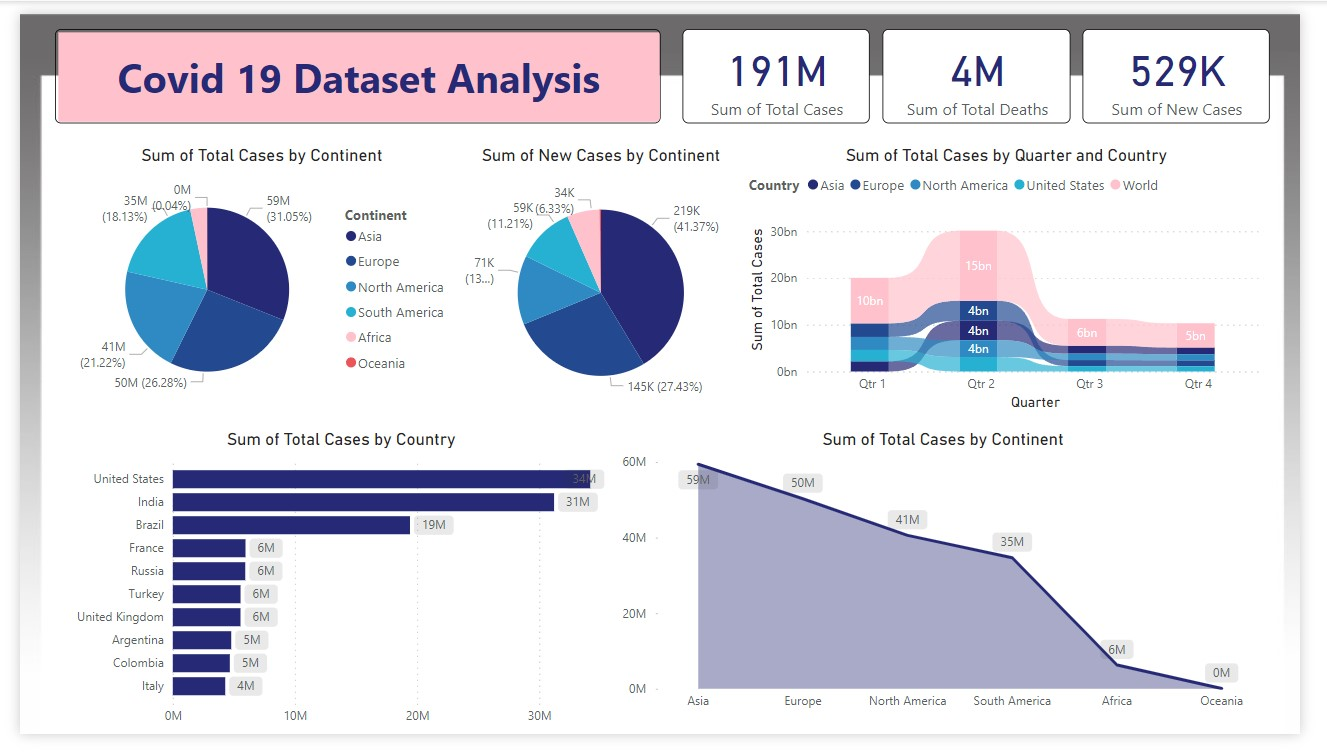

Layout of this report page (visuals, bound fields, positions):
{"tool":"powerbi","page":{"name":"Report","canvas":[1280,720],"ordinal":2},"visuals":[{"type":"card","fields":{"Values":["Sum(Covid Fainal.Total Cases)"]},"box":[663.1,15.5,186.9,94],"z":0},{"type":"card","fields":{"Values":["Sum(Covid Fainal.Total Deaths)"]},"box":[863.1,15.5,188.1,94],"z":1000},{"type":"card","fields":{"Values":["Sum(Covid Fainal.New Cases)"]},"box":[1061.9,15.5,186.9,94],"z":2000},{"type":"shape","box":[34.5,15.5,606,94],"z":3000},{"type":"textbox","box":[151.2,171.4,478.6,98.8],"z":4000},{"type":"pieChart","fields":{"Category":["Covid Fainal.Continent"],"Y":["Sum(Covid Fainal.Total Cases)"]},"box":[45,131.2,393.8,270],"z":5000},{"type":"pieChart","fields":{"Category":["Covid Fainal.Continent"],"Y":["Sum(Covid Fainal.New Cases)"]},"box":[439.3,131,284.5,276.2],"z":6000},{"type":"areaChart","fields":{"Category":["Covid Fainal.Continent"],"Y2":["Sum(Covid Fainal.Total Cases)"]},"box":[597.5,415,651.2,290],"z":7000},{"type":"barChart","fields":{"Category":["Covid Fainal.Country"],"Y":["Sum(Covid Fainal.Total Cases)"]},"box":[45,415,552.5,305],"z":8000},{"type":"ribbonChart","fields":{"Category":["Trend of Daily Cases.Date.Variation.Date Hierarchy.Quarter","Trend of Daily Cases.Date.Variation.Date Hierarchy.Month","Trend of Daily Cases.Date.Variation.Date Hierarchy.Day"],"Y":["Sum(Trend of Daily Cases.Total Cases)"],"Series":["Trend of Daily Cases.Country"]},"box":[723.8,131.2,525,270],"z":9000}]}

Visuals, with their boxes in screenshot pixels (x1, y1, x2, y2), scaled from the page's 1280x720 canvas onto the 1327x756 screenshot:
card - Sum(Covid Fainal.Total Cases): locate(687, 16, 881, 115)
card - Sum(Covid Fainal.Total Deaths): locate(895, 16, 1090, 115)
card - Sum(Covid Fainal.New Cases): locate(1101, 16, 1295, 115)
shape: locate(36, 16, 664, 115)
textbox: locate(157, 180, 653, 284)
pieChart - Covid Fainal.Continent x Sum(Covid Fainal.Total Cases): locate(47, 138, 455, 421)
pieChart - Covid Fainal.Continent x Sum(Covid Fainal.New Cases): locate(455, 138, 750, 428)
areaChart - Covid Fainal.Continent x Sum(Covid Fainal.Total Cases): locate(619, 436, 1295, 740)
barChart - Covid Fainal.Country x Sum(Covid Fainal.Total Cases): locate(47, 436, 619, 755)
ribbonChart - Trend of Daily Cases.Date.Variation.Date Hierarchy.Quarter x Trend of Daily Cases.Date.Variation.Date Hierarchy.Month: locate(750, 138, 1295, 421)
